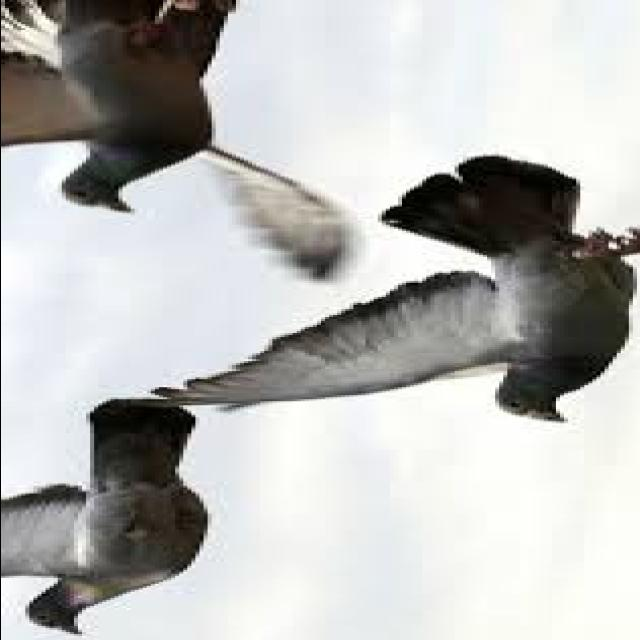pigeon: (123, 152, 640, 426)
